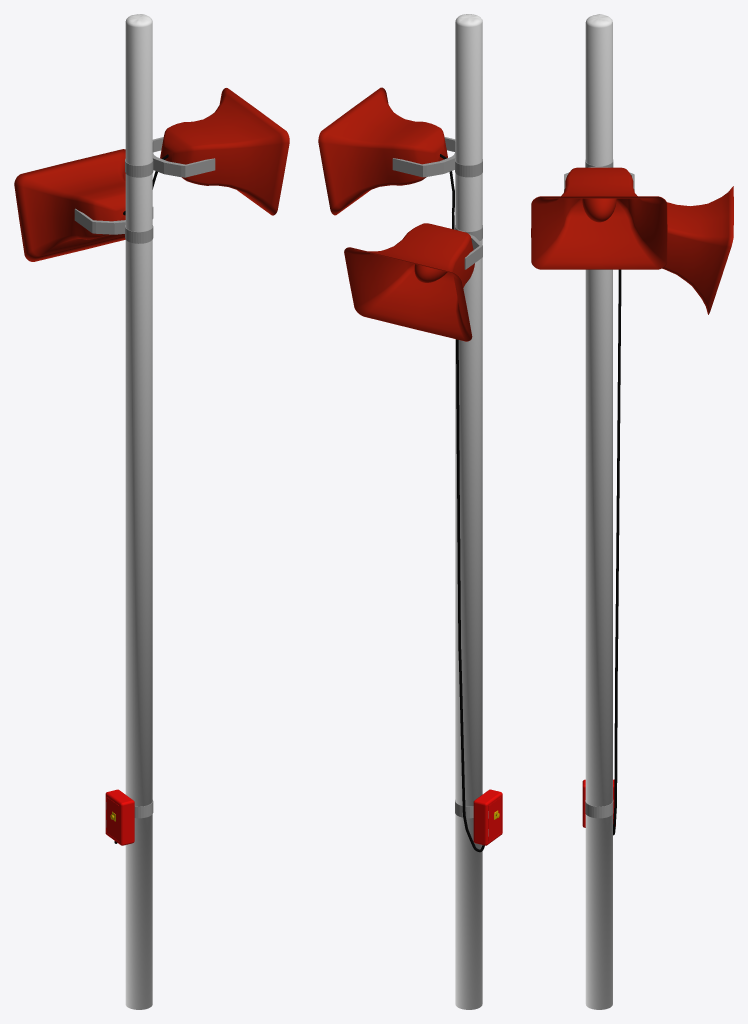
The model's file is Pole.fbx.
The picture shows the model from 3 angles, left to right: view 1: azimuth 30°, elevation 25°; view 2: azimuth 150°, elevation 25°; view 3: azimuth 270°, elevation 25°; orthographic projection.
Parts seen in each view (by area): view 1: Wood, Siren.002, Siren.001, Electric.Box.001, Siren, Siren.003; view 2: Wood, Siren.002, Siren.001, Cable, Electric.Box.001, Siren, Siren.003; view 3: Wood, Siren.001, Siren.002, Cable.
Boxes of the visible parts, <box> form: Wood: <box>125,14,152,1009</box>; Siren.002: <box>14,149,125,261</box>; Siren.001: <box>160,88,289,215</box>; Electric.Box.001: <box>105,789,134,845</box>; Siren: <box>125,137,215,177</box>; Siren.003: <box>74,207,153,243</box>; Wood: <box>455,14,482,1009</box>; Siren.002: <box>344,223,474,341</box>; Siren.001: <box>318,87,447,215</box>; Cable: <box>440,154,484,852</box>; Electric.Box.001: <box>473,789,502,845</box>; Siren: <box>392,136,482,177</box>; Siren.003: <box>455,225,482,269</box>; Wood: <box>585,14,612,1009</box>; Siren.001: <box>531,167,667,269</box>; Siren.002: <box>662,186,733,314</box>; Cable: <box>613,269,621,835</box>.
Bounding box in the file's own units: 151 × 804 × 150.
